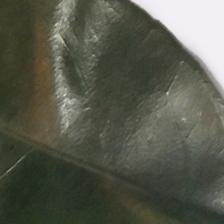healthy: (9, 25, 224, 224)
